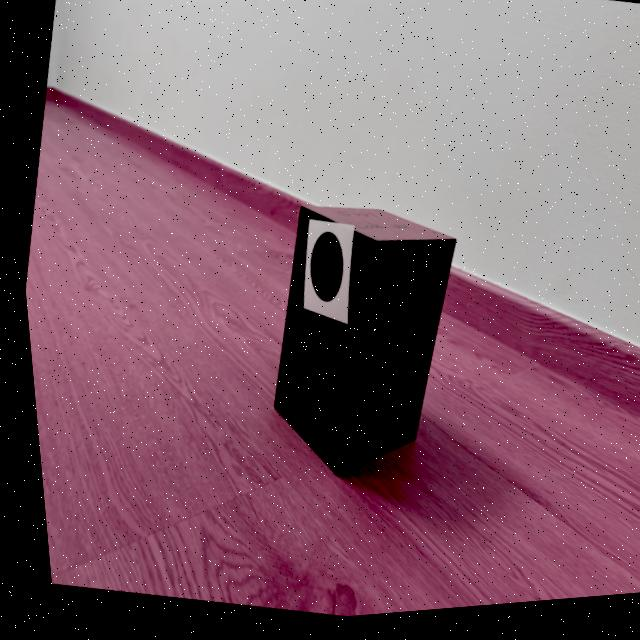CIRCLE: (304, 236, 338, 307)
